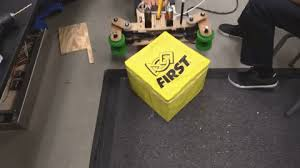cube: (125, 31, 212, 122)
